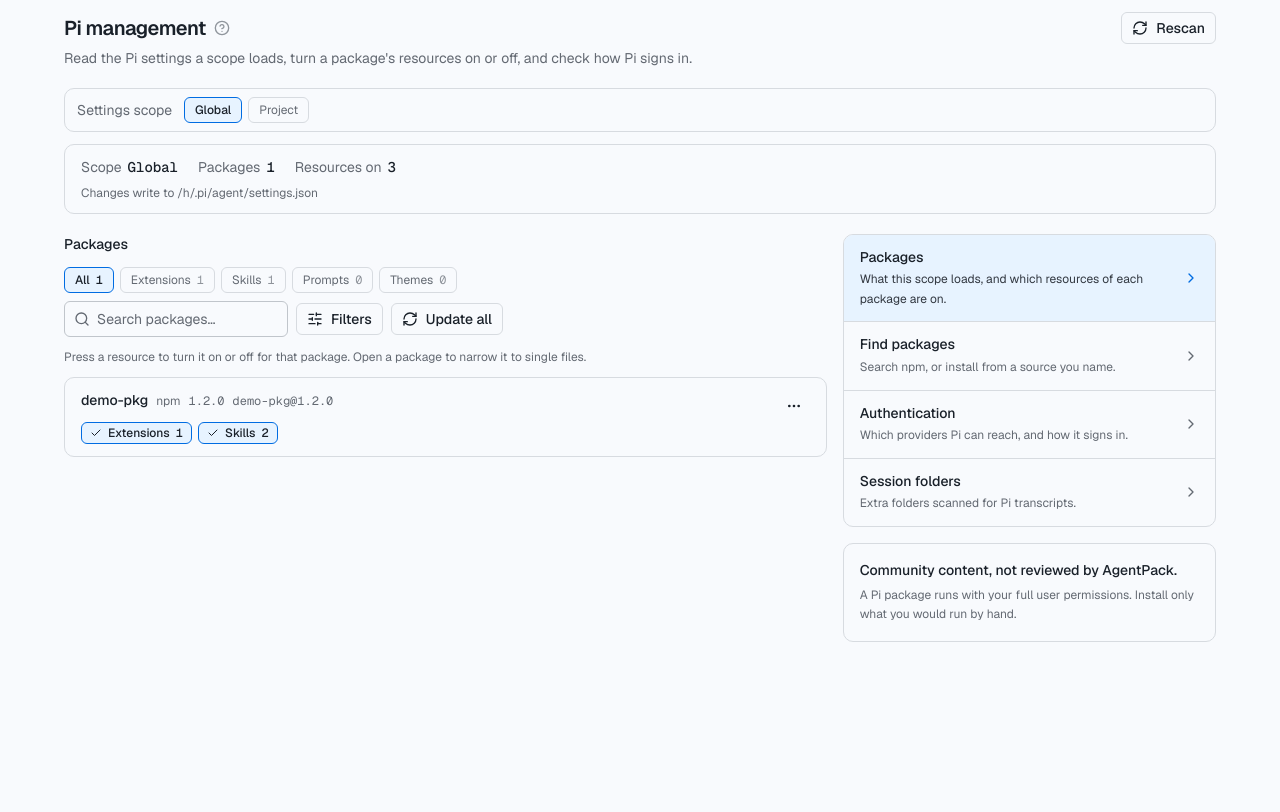
it: asks for a folder rather than showing the global packages under a project heading
Check: the text "demo-pkg" is shown, box [81,391,148,409]
Click the button "Project". click: (279, 110)
box: [248,97,309,123]
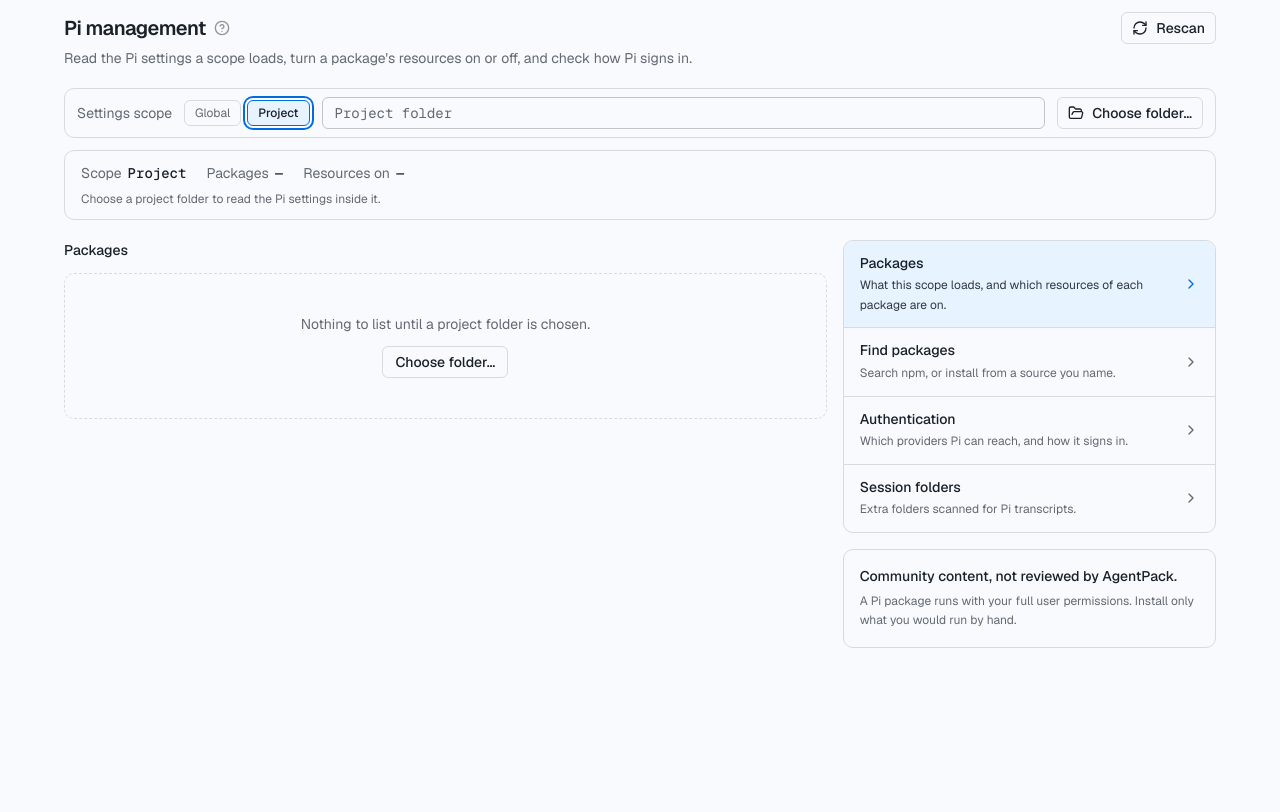
Check: the text "Choose a project folder to read the Pi settings inside it." is shown, box [81,191,380,207]
Check: the text "Nothing to list until a project folder is chosen." is shown, box [301,314,590,334]
Check: the button "demo-pkg" is gone
